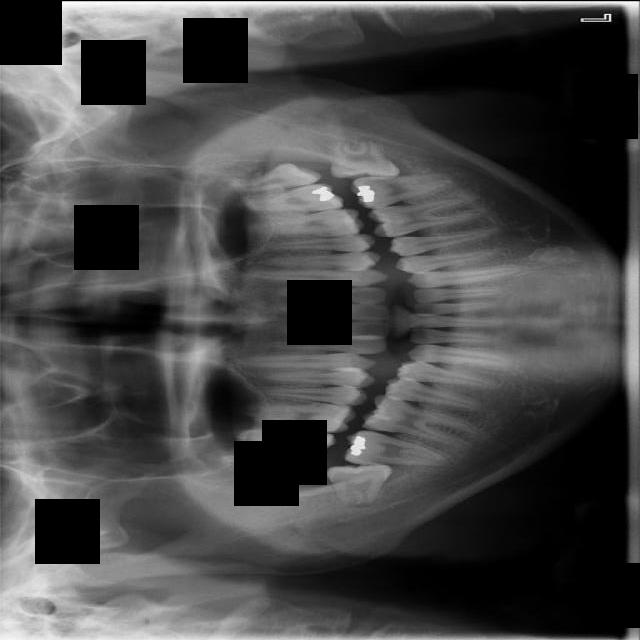3M ESPE Implant: (216, 438, 319, 488)
52: (345, 167, 397, 220), (344, 427, 397, 467), (291, 179, 344, 216), (285, 431, 337, 458)
73: (572, 52, 580, 54)
BioHorizons Implant: (237, 180, 343, 220)
BioLife Implant: (220, 156, 323, 201)
Biomet 3i Implant: (330, 138, 401, 180)
Blue Sky Bio Implant: (348, 172, 452, 210)
Caries: (234, 426, 336, 459)
Implant: (343, 427, 447, 469)
Keystone Dental Implant: (325, 461, 393, 506)
